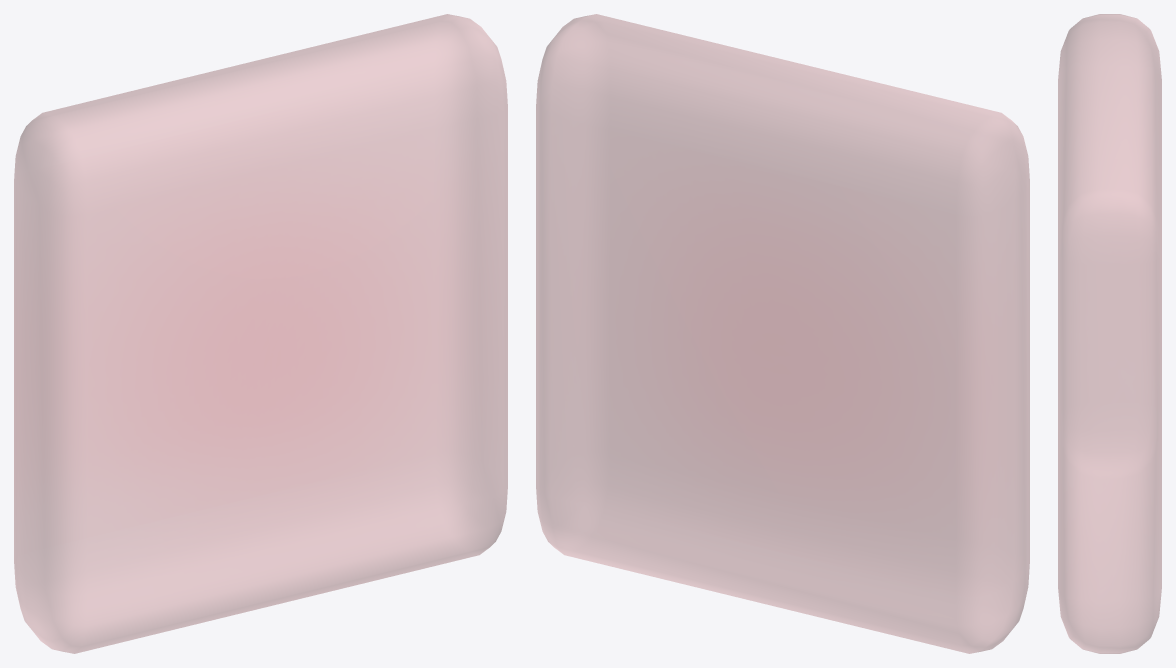
Rendered from jelly.fbx.
The picture shows the model from 3 angles, left to right: view 1: azimuth 30°, elevation 25°; view 2: azimuth 150°, elevation 25°; view 3: azimuth 270°, elevation 25°; orthographic projection. The views are drawn at different scales.
Visible parts, largest first — view 1: Box003; view 2: Box003; view 3: Box003.
Part boxes in pixels (x1,y1,x2,y2): Box003: [14, 14, 507, 653]; Box003: [536, 14, 1029, 653]; Box003: [1058, 14, 1161, 653].
Bounding box in the file's own units: 213 × 233 × 47.24.
Materials: 1 (1 with a texture image).
